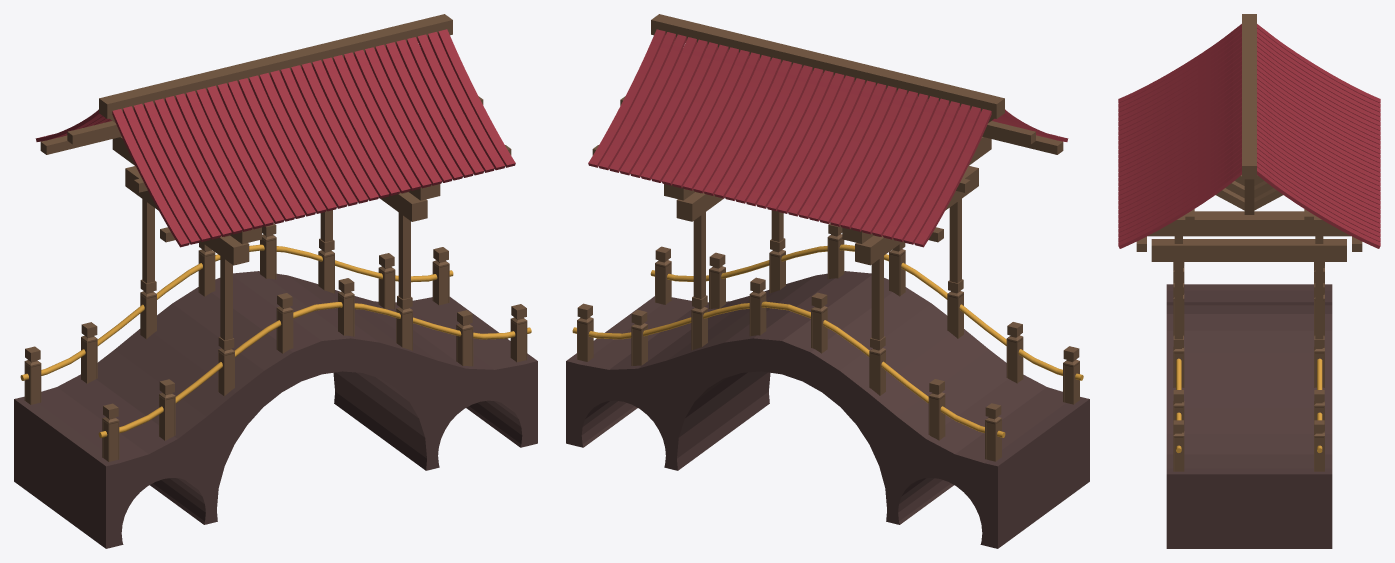
The model's file is Low_poly_torii_bridge.glb.
The picture shows the model from 3 angles, left to right: view 1: azimuth 30°, elevation 25°; view 2: azimuth 150°, elevation 25°; view 3: azimuth 270°, elevation 25°; orthographic projection. The views are drawn at different scales.
Visible parts, largest first — view 1: unnamed (×5); view 2: unnamed (×5); view 3: unnamed (×5).
Part boxes in pixels (x1,y1,x2,y2): unnamed (×5): (14, 14, 537, 548); unnamed (×5): (566, 14, 1089, 548); unnamed (×5): (1118, 14, 1380, 548).
Bounding box in the file's own units: 14.51 × 12.96 × 8.46.
Materials: 1 (1 with a texture image).
